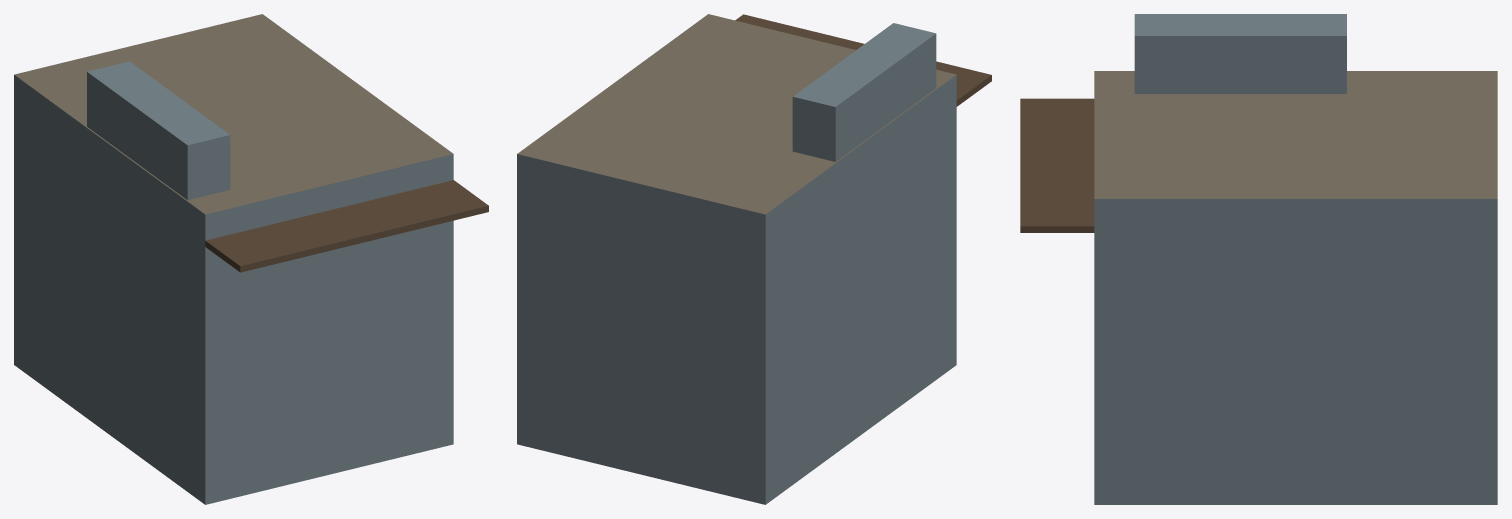
Rendered from ns-triple-decker.towns-v1.lod2.glb.
3 renders of one model, left to right at view 1: azimuth 30°, elevation 25°; view 2: azimuth 150°, elevation 25°; view 3: azimuth 270°, elevation 25°, orthographic. The views are drawn at different scales.
Visible parts, largest first — view 1: ns-triple-decker; view 2: ns-triple-decker; view 3: ns-triple-decker.
Boxes of the visible parts, x1,y1,x2,y2 form: ns-triple-decker: (14,14,488,504); ns-triple-decker: (517,14,991,504); ns-triple-decker: (1020,14,1497,504).
Bounding box in the file's own units: 9 × 11.95 × 14.2.
